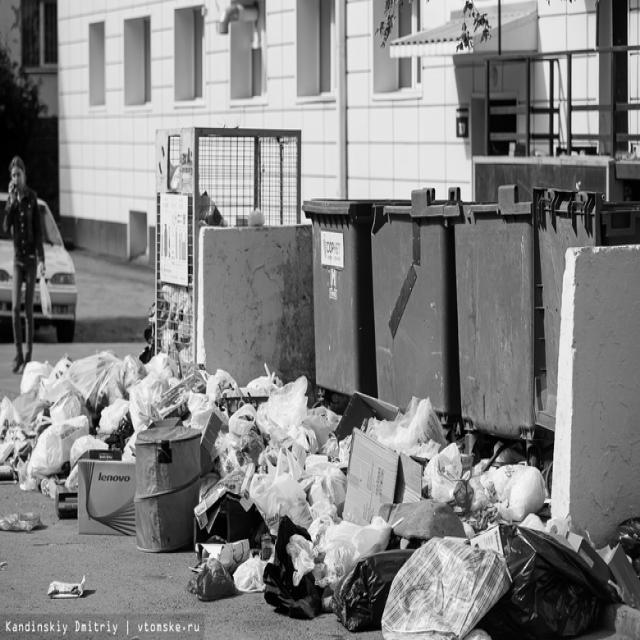bin: (455, 184, 640, 451), (370, 188, 467, 440), (302, 198, 411, 409)
trash: (0, 304, 640, 640), (48, 575, 85, 599), (0, 511, 43, 531), (0, 561, 9, 571)
